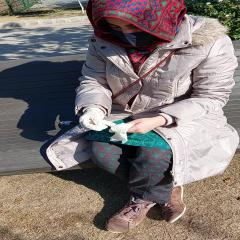gloved: (81, 108, 105, 132)
not-gloved: (123, 117, 166, 134)
